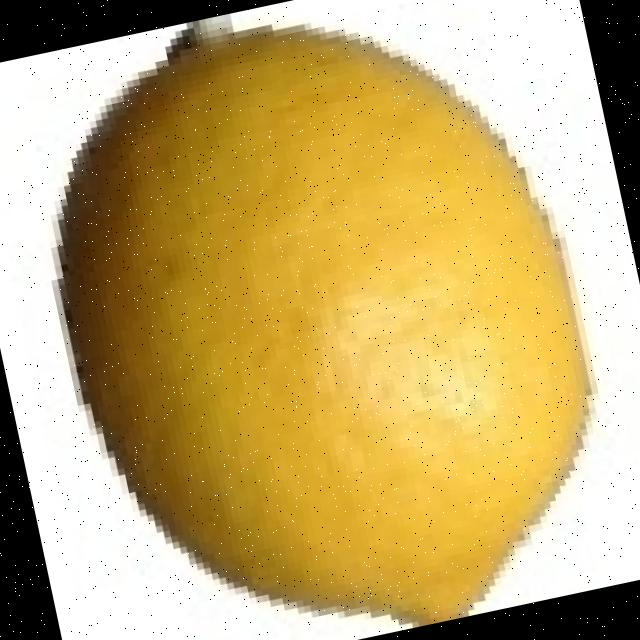lemon: (60, 30, 587, 626)
